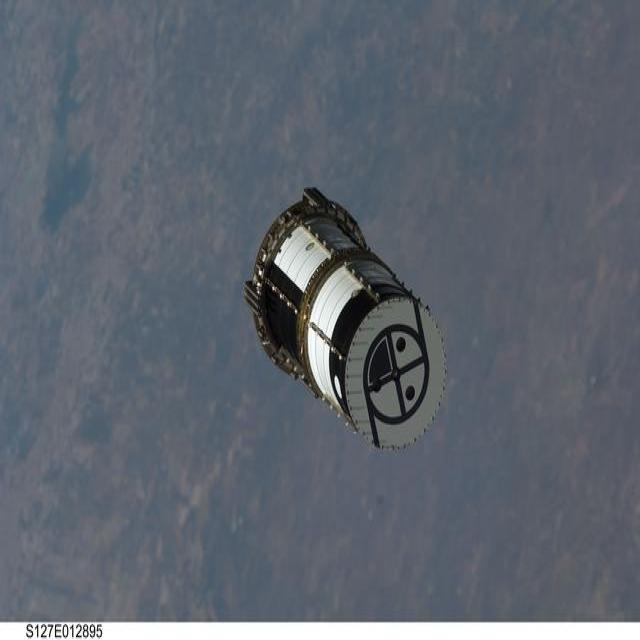medium_debris: (244, 189, 445, 449)
